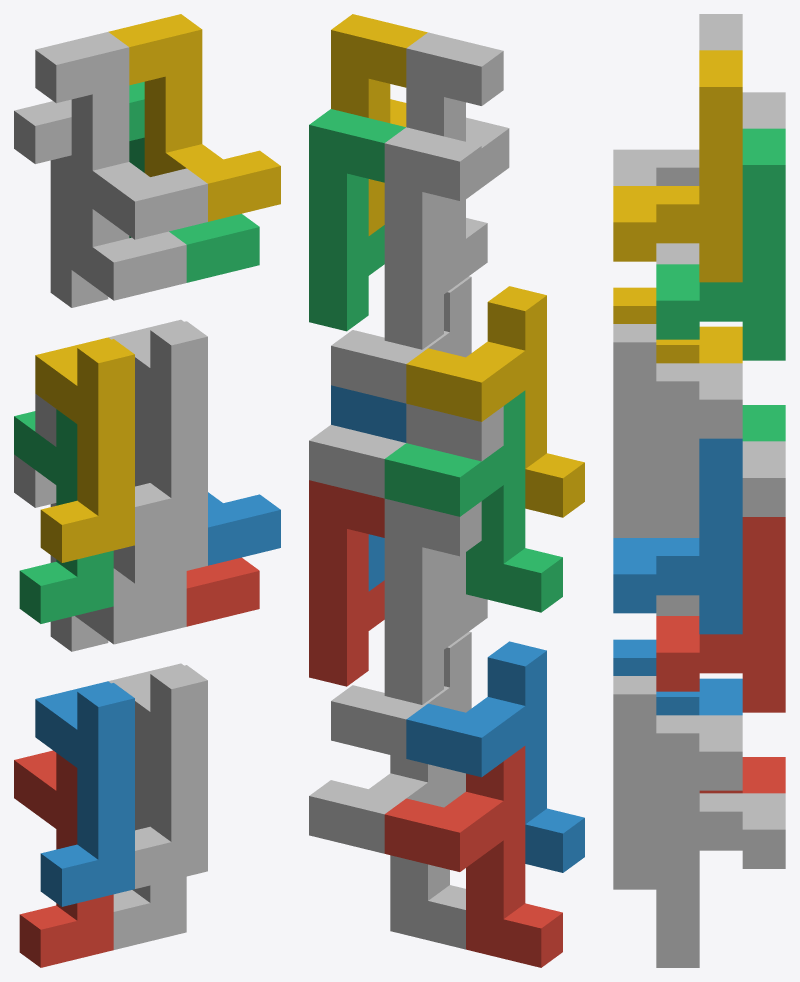
The model's file is tiling.obj.
3 views of the same model, side by side, from view 1: azimuth 30°, elevation 25°; view 2: azimuth 150°, elevation 25°; view 3: azimuth 270°, elevation 25° (orthographic). The views are drawn at different scales.
Visible parts, largest first — view 1: copy_2_domain_4, copy_1_domain_2, copy_1_domain_4, copy_2_domain_8, copy_1_domain_6, copy_1_domain_8, copy_2_domain_3, copy_1_domain_1, copy_1_domain_3, copy_2_domain_1, copy_2_domain_7, copy_1_domain_5 (+4 smaller); view 2: copy_1_domain_1, copy_2_domain_3, copy_1_domain_3, copy_1_domain_2, copy_1_domain_4, copy_2_domain_1, copy_2_domain_7, copy_2_domain_5, copy_1_domain_5, copy_2_domain_4, copy_2_domain_8, copy_1_domain_6 (+4 smaller); view 3: copy_2_domain_8, copy_2_domain_7, copy_1_domain_6, copy_1_domain_8, copy_2_domain_6, copy_1_domain_5, copy_2_domain_5, copy_1_domain_7, copy_2_domain_4, copy_1_domain_2, copy_1_domain_4, copy_2_domain_3 (+2 smaller).
Boxes of the visible parts, bbox=[...] form: copy_2_domain_4: bbox=[35, 32, 207, 246]; copy_1_domain_2: bbox=[35, 681, 134, 906]; copy_1_domain_4: bbox=[35, 337, 134, 562]; copy_2_domain_8: bbox=[108, 14, 280, 221]; copy_1_domain_6: bbox=[108, 663, 207, 888]; copy_1_domain_8: bbox=[108, 319, 207, 545]; copy_2_domain_3: bbox=[14, 99, 186, 307]; copy_1_domain_1: bbox=[14, 750, 113, 967]; copy_1_domain_3: bbox=[14, 409, 113, 623]; copy_2_domain_1: bbox=[14, 454, 186, 651]; copy_2_domain_7: bbox=[129, 81, 259, 282]; copy_1_domain_5: bbox=[113, 739, 186, 949]; copy_1_domain_1: bbox=[384, 746, 562, 967]; copy_2_domain_3: bbox=[384, 127, 487, 349]; copy_1_domain_3: bbox=[384, 390, 562, 612]; copy_1_domain_2: bbox=[406, 641, 584, 872]; copy_1_domain_4: bbox=[406, 286, 584, 517]; copy_2_domain_1: bbox=[384, 498, 487, 704]; copy_2_domain_7: bbox=[309, 109, 405, 331]; copy_2_domain_5: bbox=[309, 480, 384, 686]; copy_1_domain_5: bbox=[309, 755, 465, 949]; copy_2_domain_4: bbox=[406, 32, 509, 254]; copy_2_domain_8: bbox=[331, 14, 427, 235]; copy_1_domain_6: bbox=[331, 631, 471, 802]; copy_2_domain_8: bbox=[613, 50, 742, 282]; copy_2_domain_7: bbox=[656, 128, 785, 360]; copy_1_domain_6: bbox=[613, 676, 742, 889]; copy_1_domain_8: bbox=[613, 324, 742, 537]; copy_2_domain_6: bbox=[613, 438, 742, 634]; copy_1_domain_5: bbox=[656, 772, 785, 967]; copy_2_domain_5: bbox=[656, 517, 785, 712]; copy_1_domain_7: bbox=[656, 420, 785, 615]; copy_2_domain_4: bbox=[613, 14, 742, 185]; copy_1_domain_2: bbox=[613, 639, 742, 715]; copy_1_domain_4: bbox=[613, 287, 742, 363]; copy_2_domain_3: bbox=[656, 92, 785, 264].
Bounding box in the file's own units: 6 × 23 × 4.
